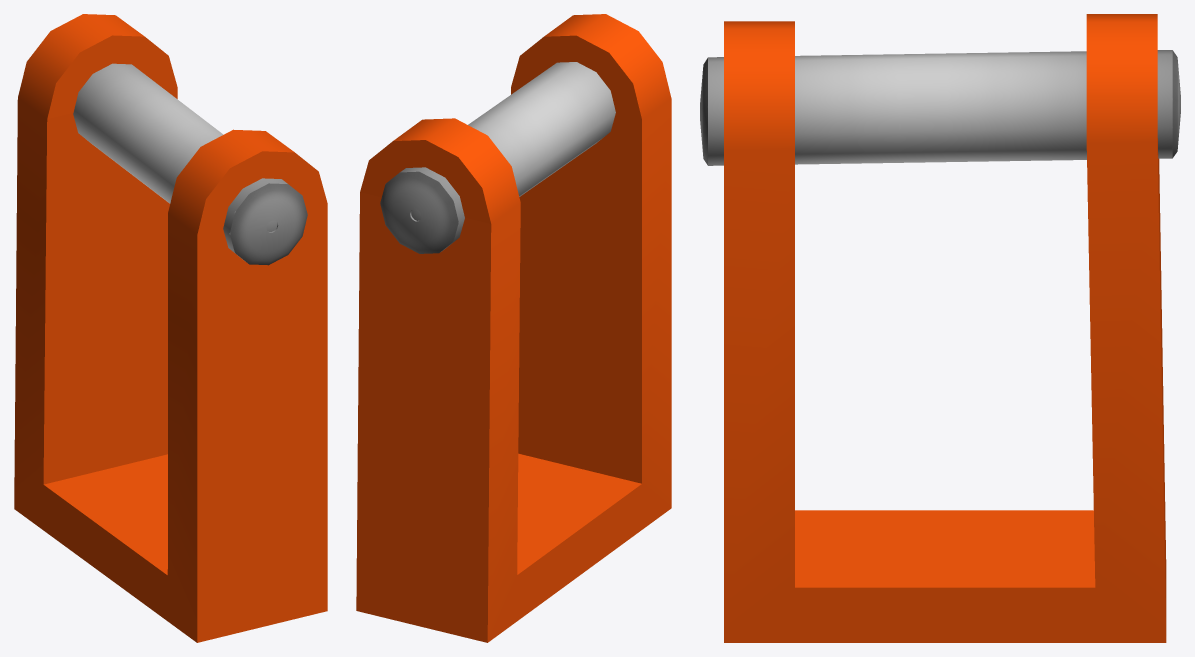
The model's file is TelescopeAxis.FBX.
3 renders of one model, left to right at view 1: azimuth 30°, elevation 25°; view 2: azimuth 150°, elevation 25°; view 3: azimuth 270°, elevation 25°, orthographic. The views are drawn at different scales.
Parts seen in each view (by area): view 1: TelescopeAxis; view 2: TelescopeAxis; view 3: TelescopeAxis.
Boxes of the visible parts, x1,y1,x2,y2 form: TelescopeAxis: (14,14,327,642); TelescopeAxis: (356,14,671,642); TelescopeAxis: (700,14,1180,642).
Size of the model in its own units: 0.1923 by 0.6777 by 0.5072.
